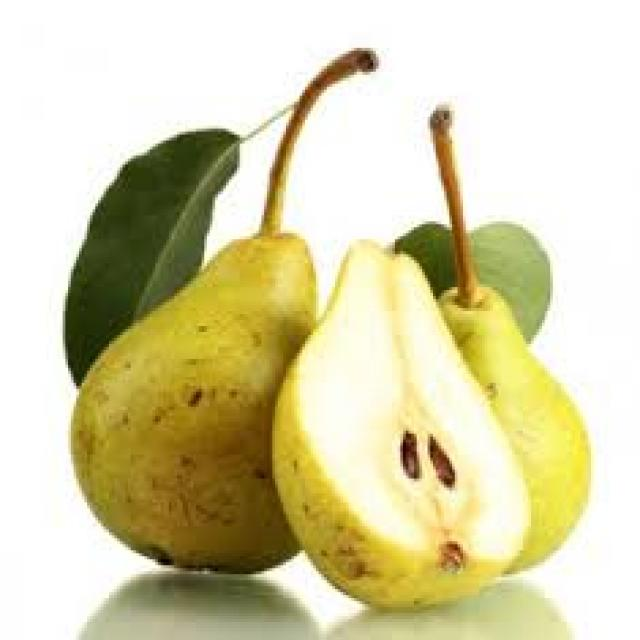organic waste: (68, 45, 379, 574), (267, 233, 528, 610), (425, 102, 591, 574), (63, 128, 237, 388), (390, 221, 550, 347)
